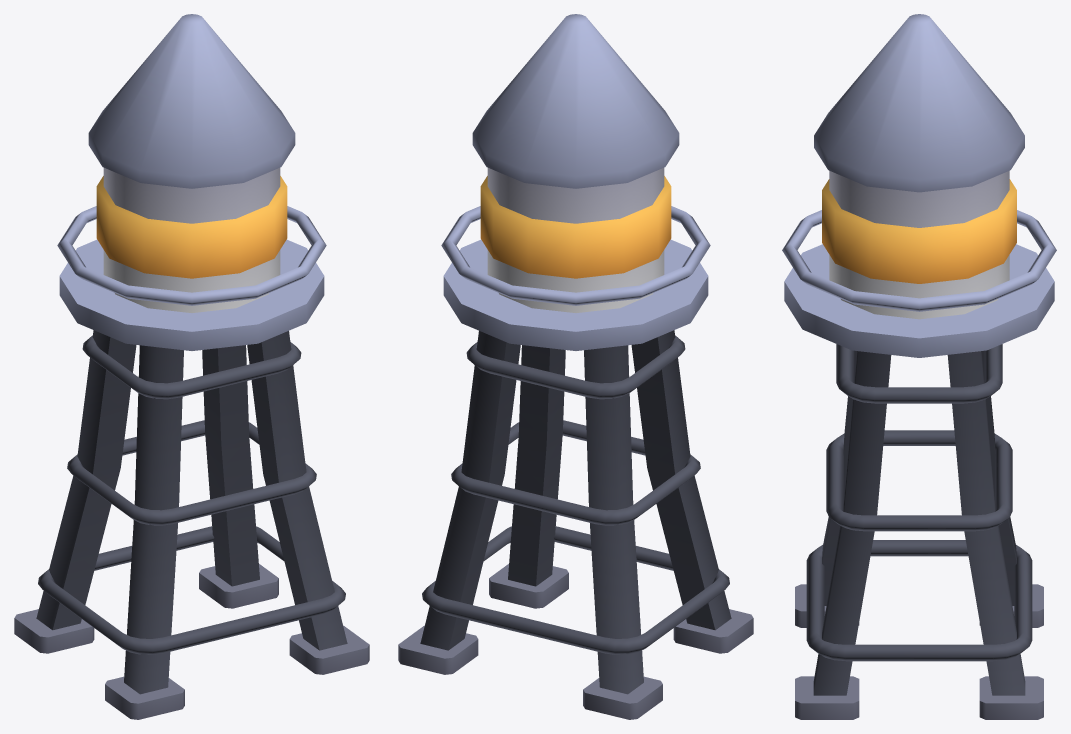
The model's file is tank_1.fbx.
3 views of the same model, side by side, from view 1: azimuth 30°, elevation 25°; view 2: azimuth 150°, elevation 25°; view 3: azimuth 270°, elevation 25° (orthographic). The views are drawn at different scales.
Visible parts, largest first — view 1: tank_1; view 2: tank_1; view 3: tank_1.
Part boxes in pixels (x1,y1,x2,y2): tank_1: (14, 14, 369, 719); tank_1: (398, 14, 753, 719); tank_1: (782, 14, 1056, 719).
Bounding box in the file's own units: 0.8522 × 2.14 × 0.8318.
Materials: 1 (1 with a texture image).
